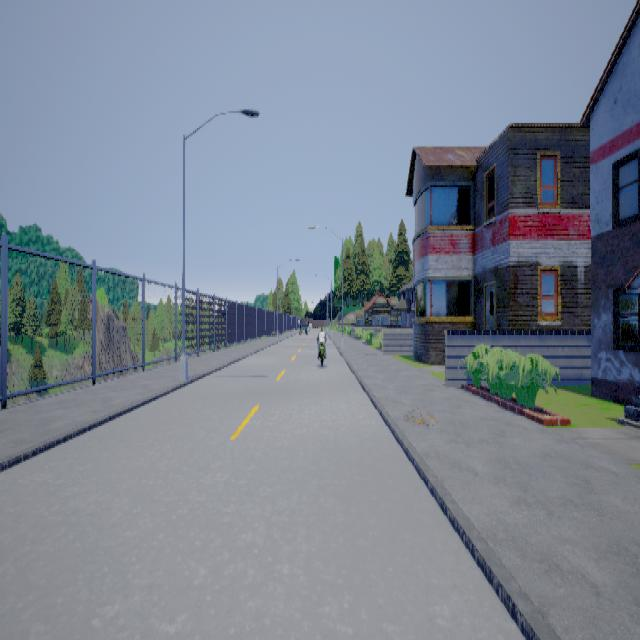motobike: (315, 327, 326, 364)
